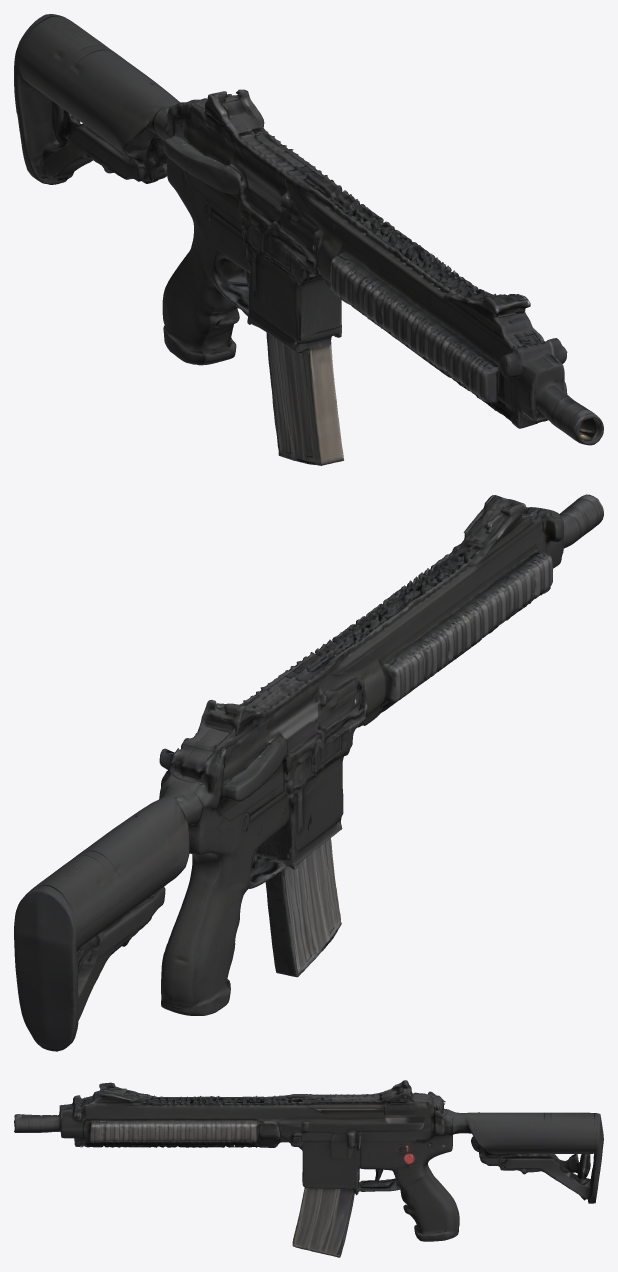
3 views of the same model, one above another, from view 1: azimuth 30°, elevation 25°; view 2: azimuth 150°, elevation 25°; view 3: azimuth 270°, elevation 25° (orthographic). The views are drawn at different scales.
Size of the model in its own units: 0.1572 by 0.6351 by 1.99.
Materials: 1 (1 with a texture image).
